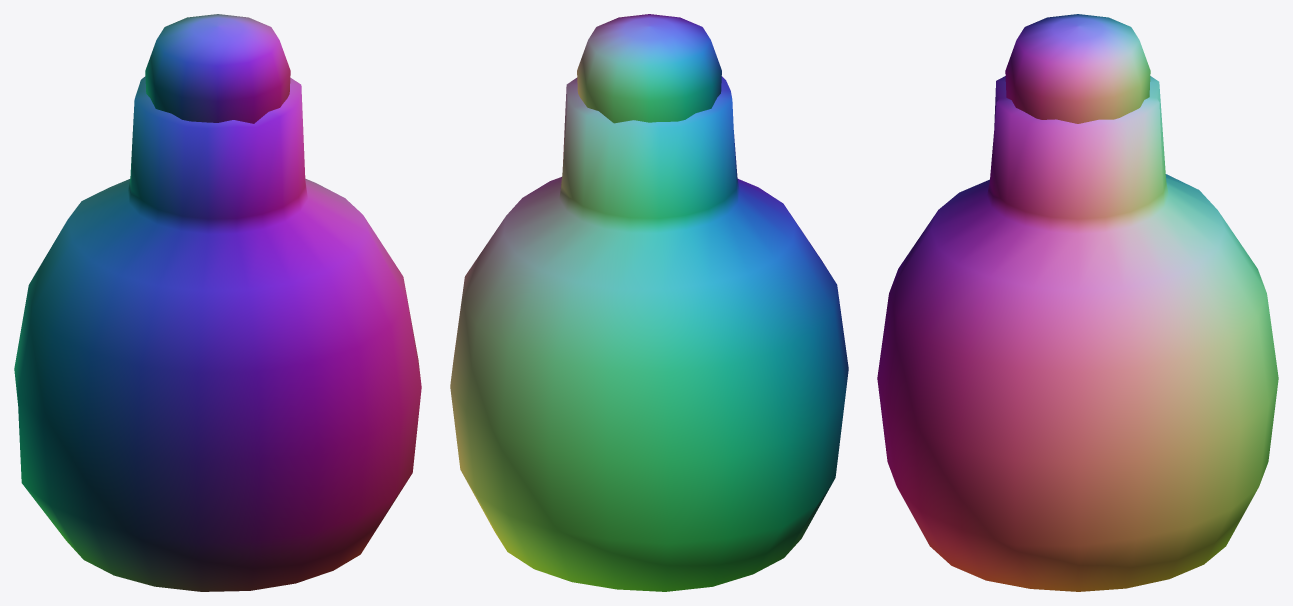
Rendered from SM_Pickup_PotionHP_L.fbx.
3 views of the same model, side by side, from view 1: azimuth 30°, elevation 25°; view 2: azimuth 150°, elevation 25°; view 3: azimuth 270°, elevation 25° (orthographic).
Parts seen in each view (by area): view 1: SM_Pickup_PotionHP_L; view 2: SM_Pickup_PotionHP_L; view 3: SM_Pickup_PotionHP_L.
Boxes of the visible parts, box(x1,y1,x2,y2) form: SM_Pickup_PotionHP_L: box(14, 14, 421, 591); SM_Pickup_PotionHP_L: box(450, 14, 848, 591); SM_Pickup_PotionHP_L: box(877, 14, 1278, 591).
Bounding box in the file's own units: 0.298 × 0.423 × 0.295.
